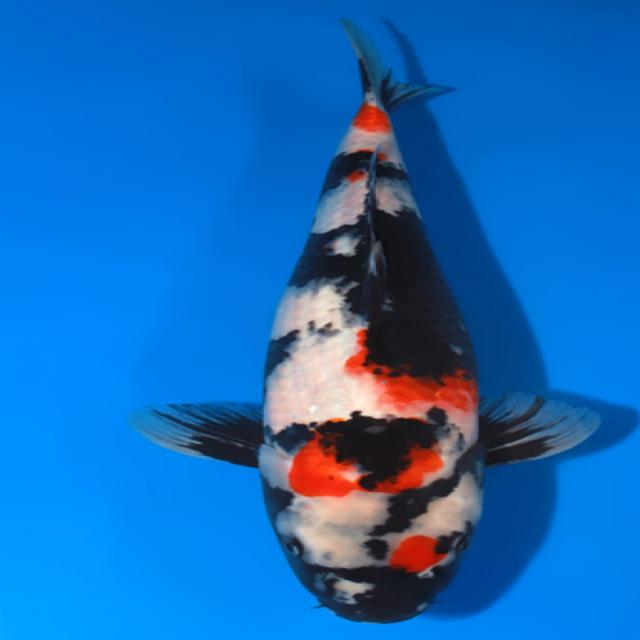Showa: (129, 15, 600, 624)
